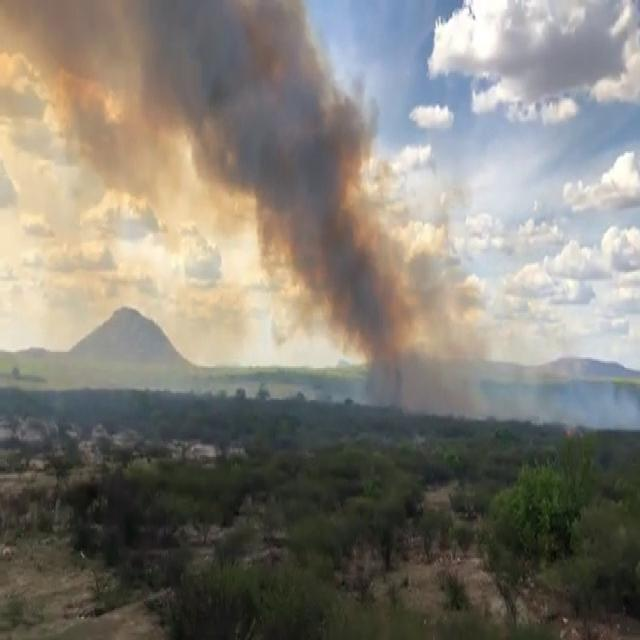Smoke: (29, 8, 357, 192), (239, 228, 528, 410), (548, 362, 634, 425)
